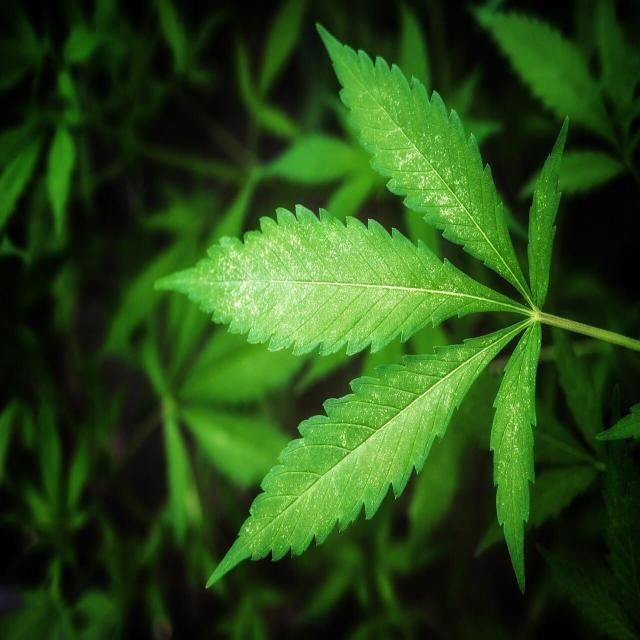cannabis: (156, 24, 640, 593), (466, 0, 639, 196), (595, 403, 639, 440)
